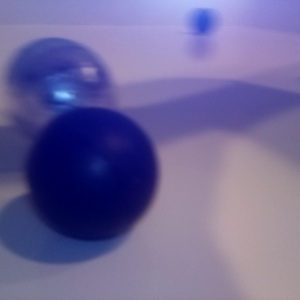alive_ball: (3, 37, 115, 141)
dead_ball: (28, 107, 157, 241), (188, 8, 219, 36)
